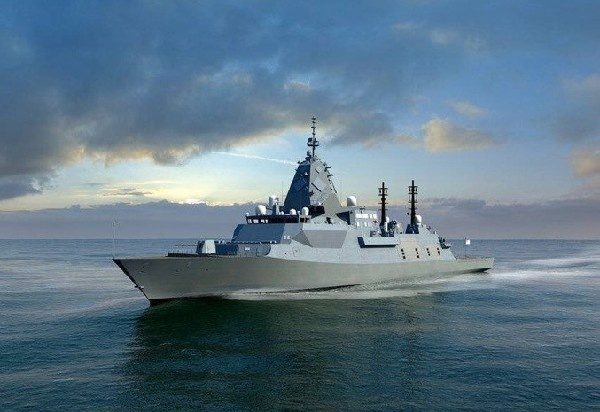warship: (111, 111, 496, 305)
